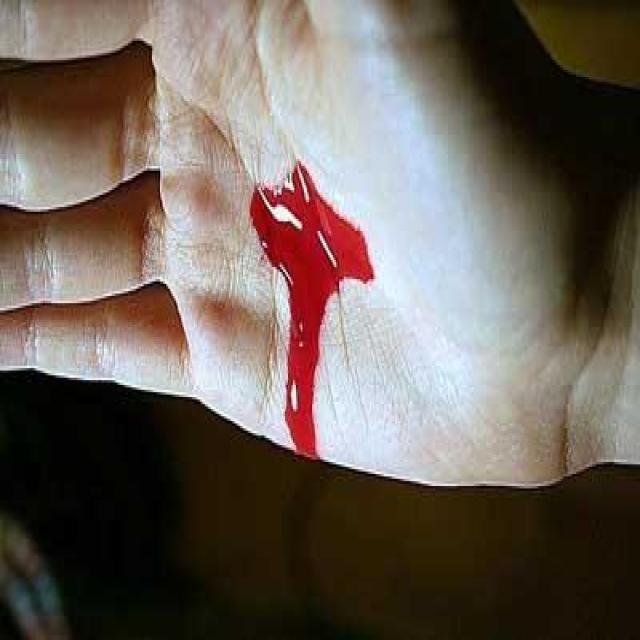flood: (244, 134, 382, 480)
